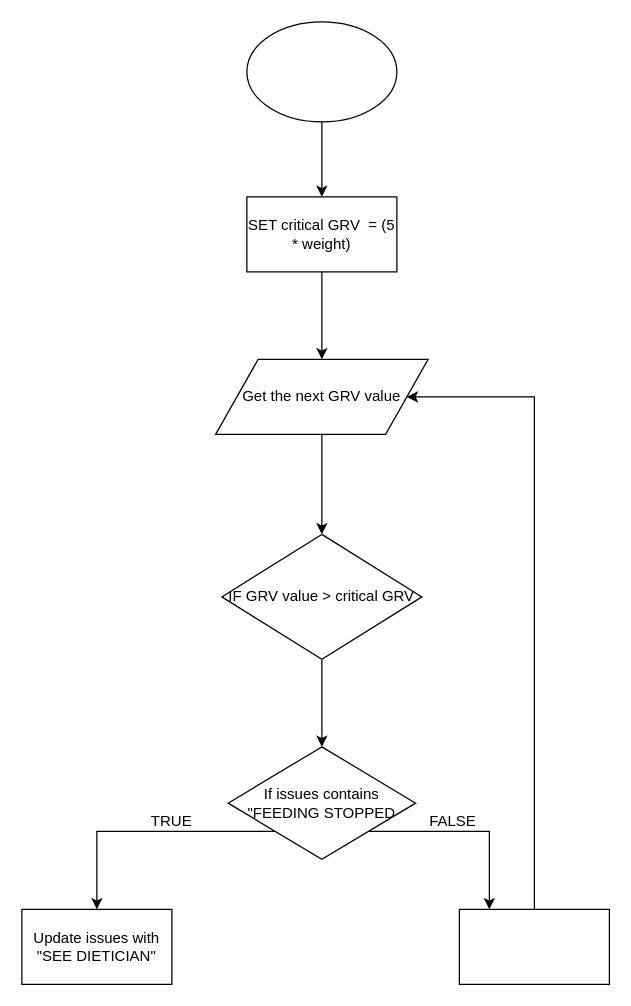
Image size: 631x1006. Some labels were removed from this diagram. Each missing label, with the centre of its shape:
Start: (321,71)
Update issues with "FEEDING STOPPED": (533,946)
